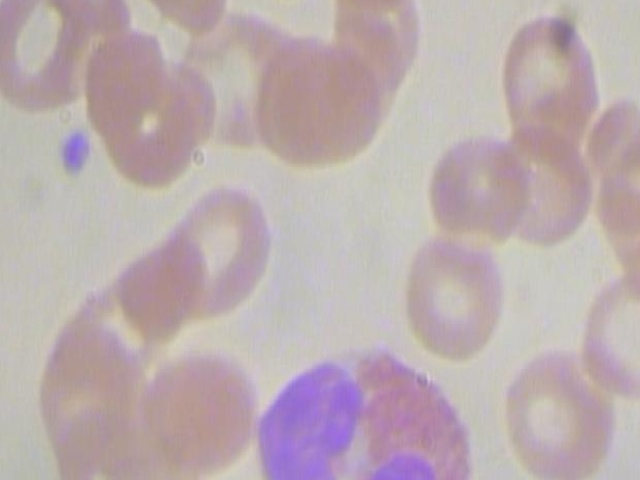Platelets: (51, 121, 99, 184)
RBC: (254, 28, 381, 175), (135, 335, 263, 480), (158, 178, 273, 323), (397, 220, 512, 365), (489, 7, 604, 152), (499, 344, 614, 480), (421, 125, 529, 248), (0, 0, 99, 111), (127, 0, 235, 41)
WBC: (251, 328, 483, 480)
